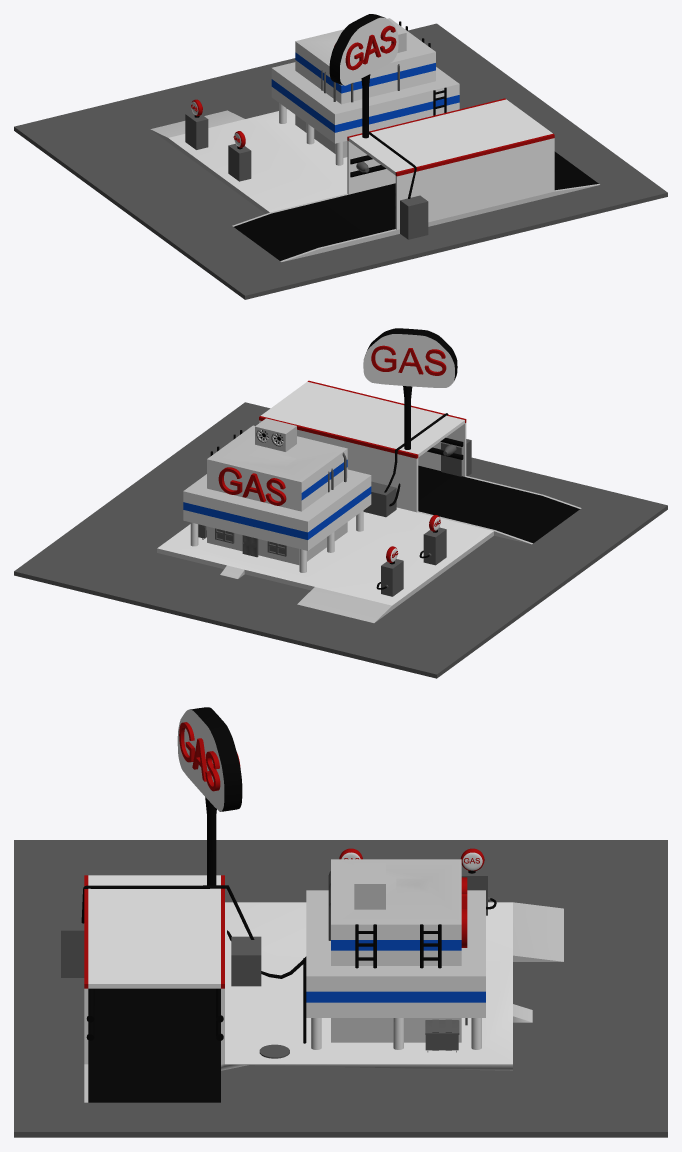
Rendered from GasStation.glb.
3 renders of one model, top to bottom at view 1: azimuth 30°, elevation 25°; view 2: azimuth 150°, elevation 25°; view 3: azimuth 270°, elevation 25°, orthographic. The views are drawn at different scales.
Visible parts, largest first — view 1: Box001; view 2: Box001; view 3: Box001.
Boxes of the visible parts, bbox=[...] form: Box001: bbox=[14, 14, 667, 299]; Box001: bbox=[14, 328, 667, 678]; Box001: bbox=[14, 707, 667, 1137].
Bounding box in the file's own units: 2.45 × 1.01 × 2.32.
